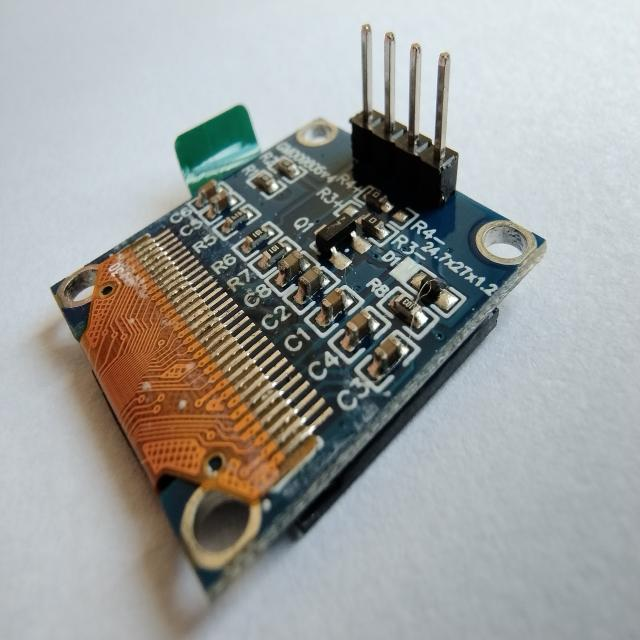oled: (38, 11, 556, 614)
